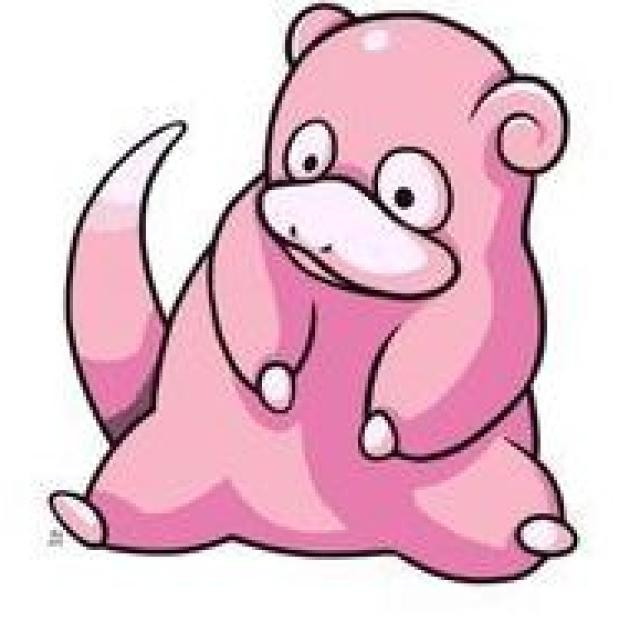Slowpoke: (85, 28, 561, 565)
